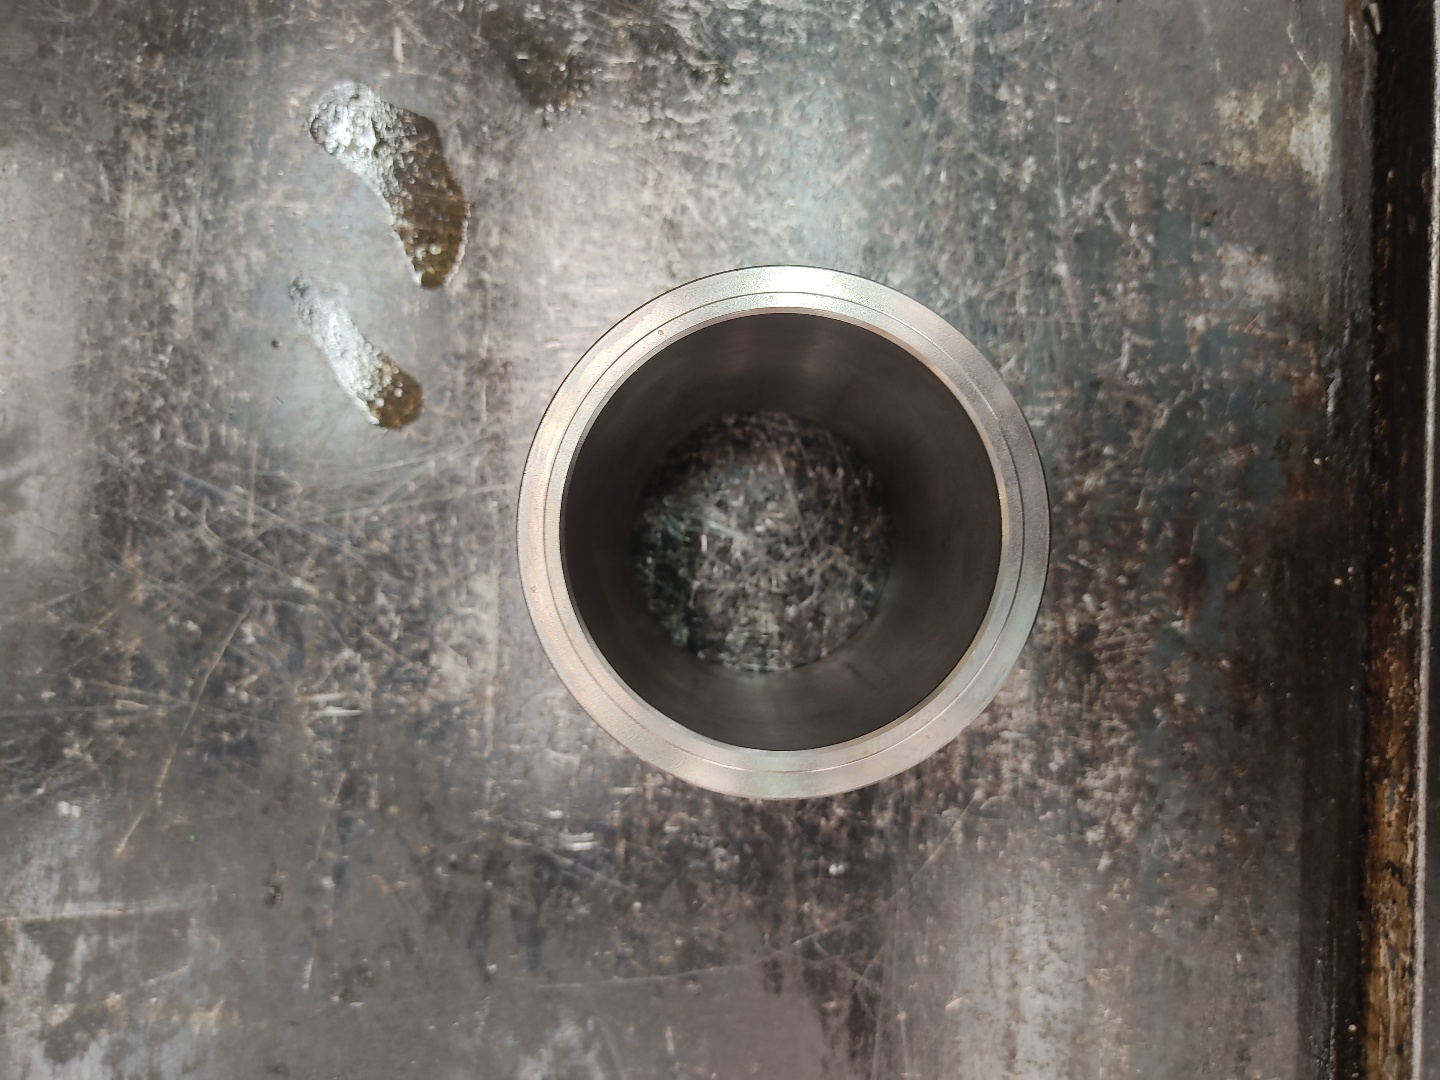cylinder: (514, 260, 1054, 803)
